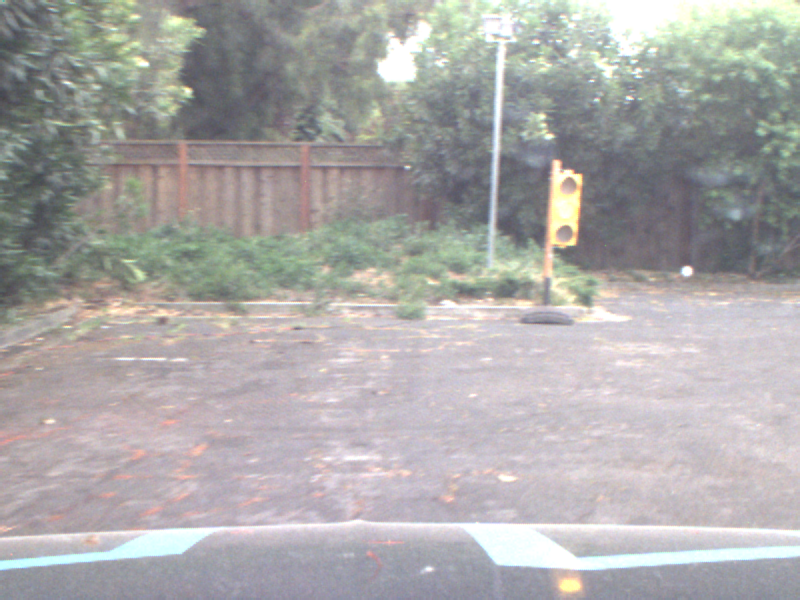Yellow: (552, 171, 577, 247)
